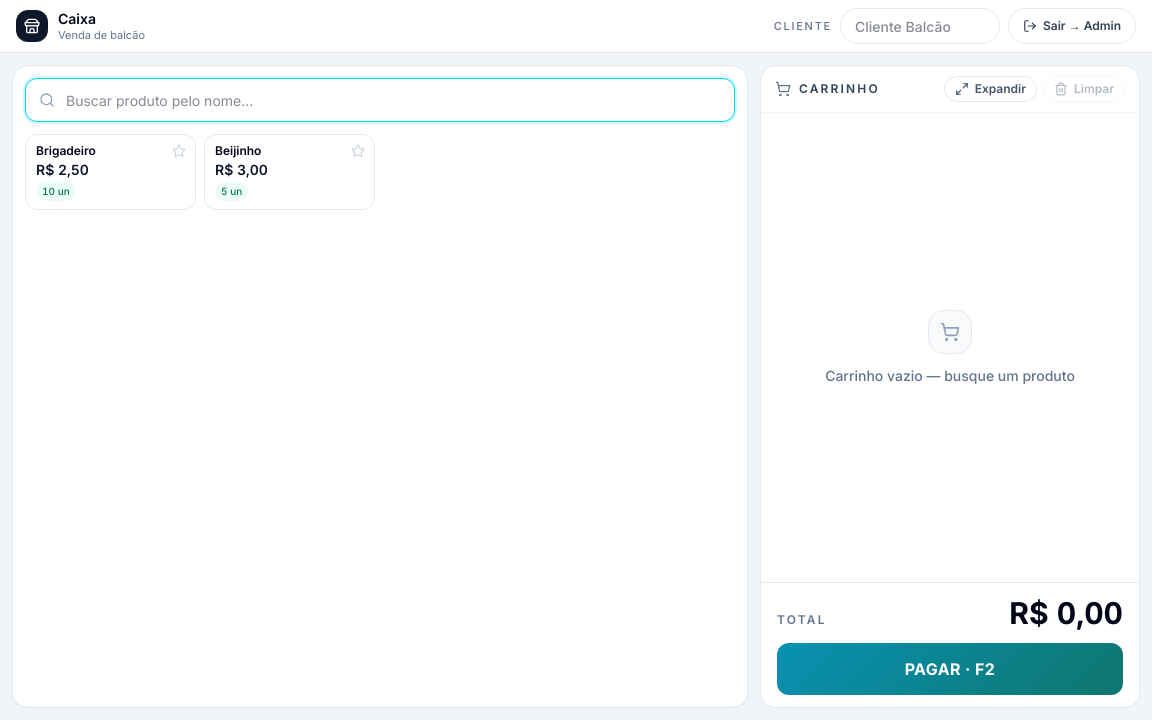
Test: CaixaPage — /pdv/caixa › carrinho expansível: "Fechar" volta ao modo compacto
Click the button with aria-label "Adicionar Brigadeiro" at (110, 172), box [26,135,195,209]
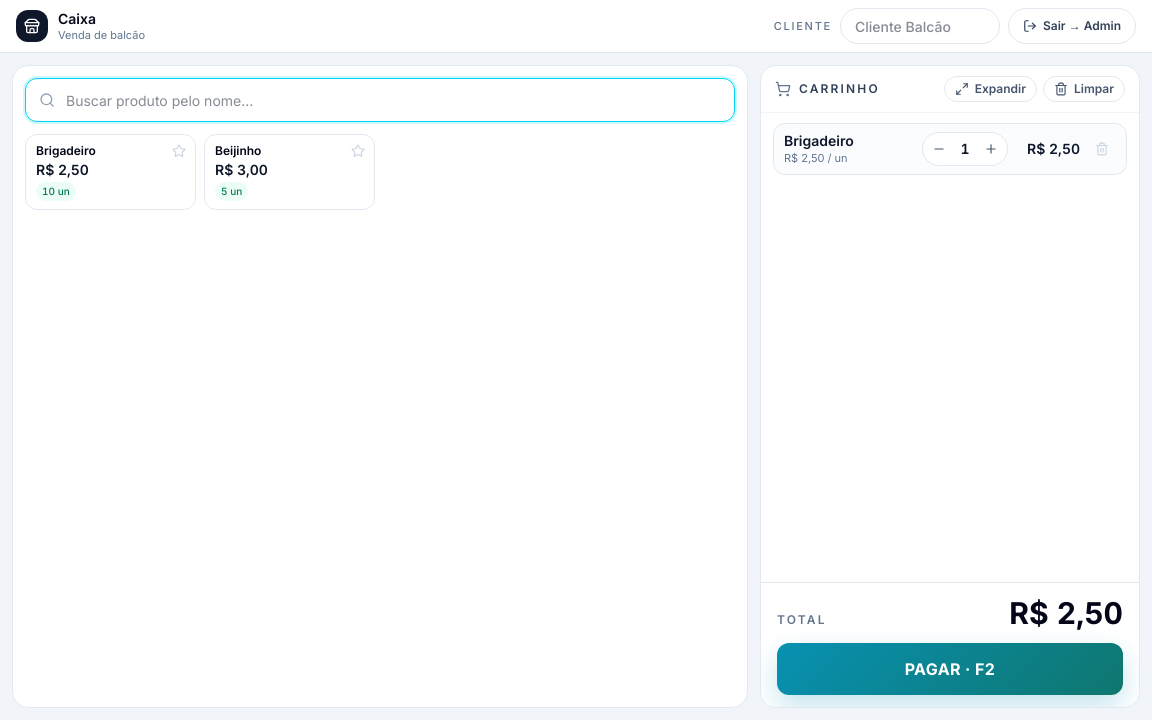
Click the button "Expandir" at (990, 89), box [944,76,1037,102]
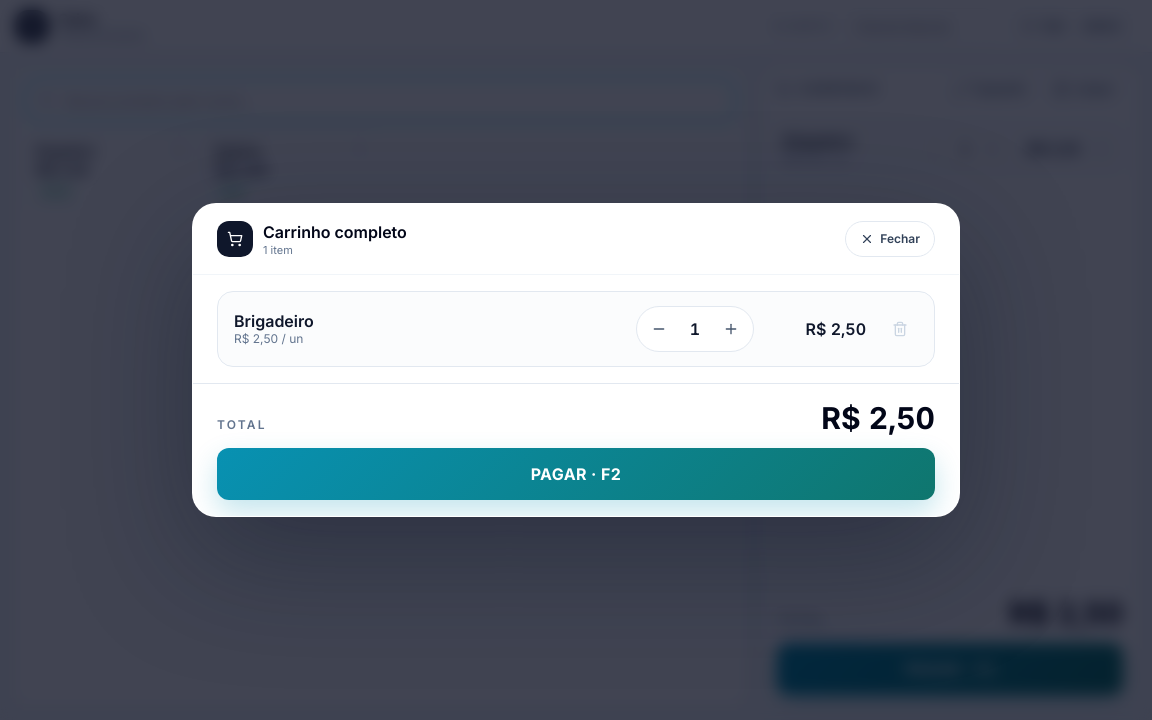
Check: the dialog "Carrinho completo" is shown
Click the button with aria-label "fechar carrinho completo" at (890, 239), box [845,221,935,257]
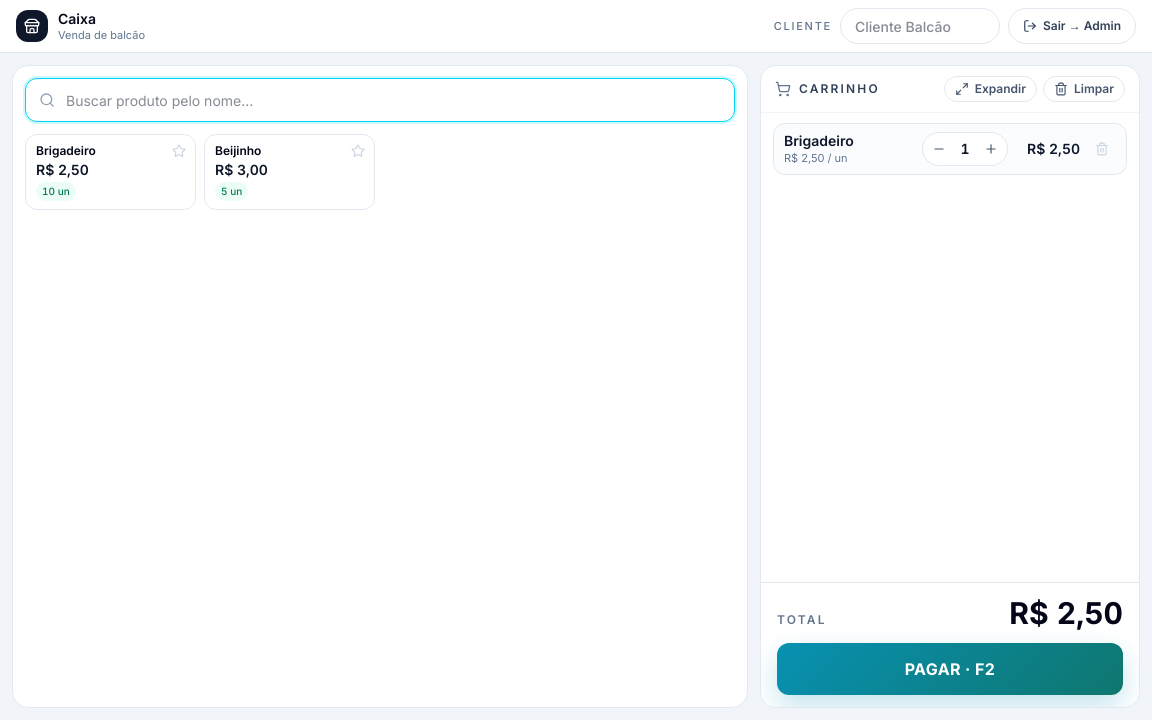
Check: the text with test id "pdv-cart-item-name" reads "Brigadeiro", box [784,132,854,149]
Check: the heading "Carrinho completo" is gone
